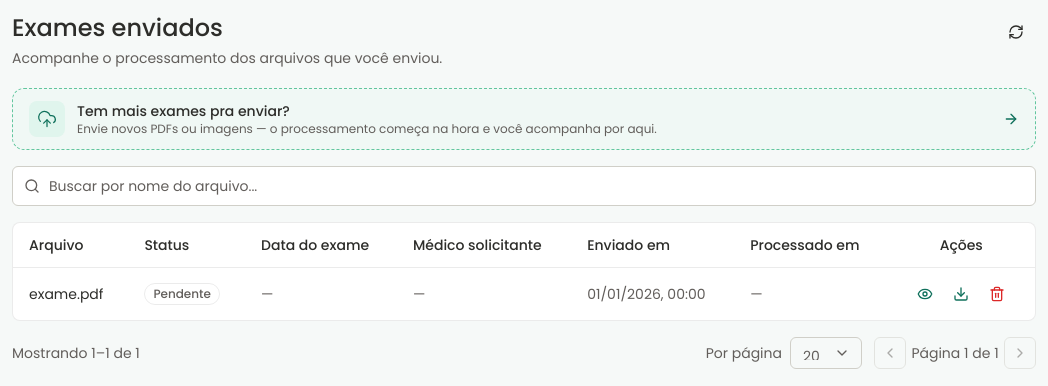
SentExamsView — colunas de data do exame e médico solicitante › status=pending sem valor: mostra tooltip de "ainda em processamento"
Expected: the 2nd text with class "cursor-default" is shown, x1=413 y1=284 x2=425 y2=304
O tooltip só monta no DOM durante o hover (ver ui/tooltip.tsx).
Hover over the 1st text with class "cursor-default".
mouse_move(267, 294)  # box x1=261 y1=284 x2=273 y2=304
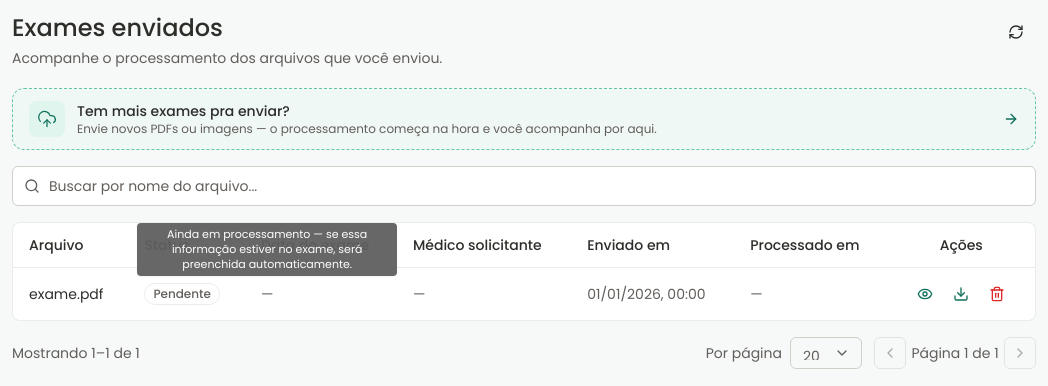
Result: the tooltip shows "Ainda em processamento" at x1=167 y1=226 x2=367 y2=272
